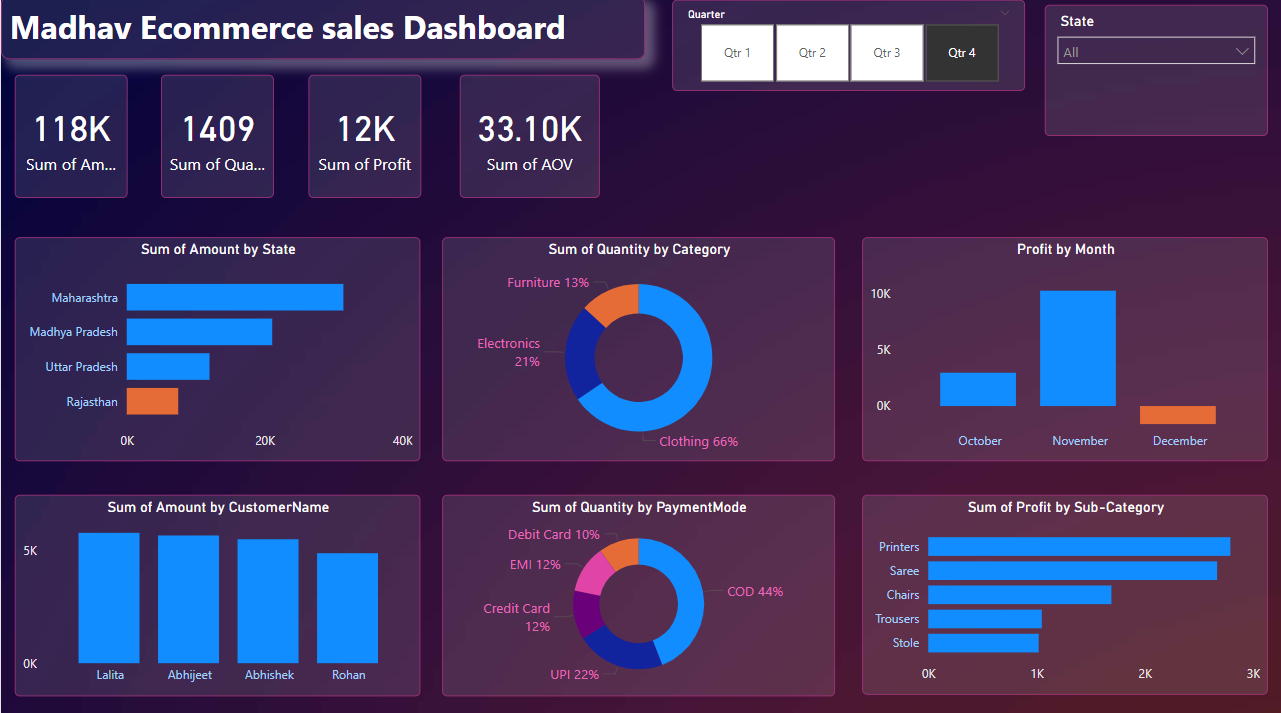

What the dashboard file says about the page in this screenshot:
{"tool":"powerbi","page":{"name":"Page 1","canvas":[1280,720],"ordinal":0},"visuals":[{"type":"textbox","box":[0,0,644.3,62.9],"z":0},{"type":"columnChart","title":"Profit by Month","fields":{"Category":["Orders.Order Date.Variation.Date Hierarchy.Month"],"Y":["Details.Profit"]},"box":[861.4,241.4,405.7,224.3],"z":1000},{"type":"barChart","fields":{"Category":["Details.Sub-Category"],"Y":["Details.Profit"]},"box":[861.4,498.6,405.7,200],"z":2000},{"type":"donutChart","fields":{"Category":["Details.Category"],"Y":["Details.Quantity"]},"box":[441.4,241.4,392.9,224.3],"z":3000},{"type":"donutChart","fields":{"Y":["Details.Quantity"],"Category":["Details.PaymentMode"]},"box":[441.4,498.6,392.9,201.4],"z":4000},{"type":"card","fields":{"Values":["Details.Amount"]},"box":[14.3,78.6,112.9,122.9],"z":5000},{"type":"card","fields":{"Values":["Details.AOV"]},"box":[458.6,78.6,140,122.9],"z":6000},{"type":"card","fields":{"Values":["Details.Quantity"]},"box":[160,78.6,112.9,122.9],"z":7000},{"type":"card","fields":{"Values":["Details.Profit"]},"box":[307.1,78.6,112.9,122.9],"z":8000},{"type":"barChart","fields":{"Category":["Orders.State"],"Y":["Details.Amount"]},"box":[14.3,241.4,405.7,224.3],"z":9000},{"type":"columnChart","fields":{"Category":["Orders.CustomerName"],"Y":["Details.Amount"]},"box":[14.3,498.6,405.7,201.4],"z":10000},{"type":"slicer","fields":{"Values":["Orders.Order Date.Variation.Date Hierarchy.Quarter"]},"box":[671.4,4.3,352.9,91.4],"z":11000},{"type":"slicer","fields":{"Values":["Orders.State"]},"box":[1044.3,8.6,222.9,131.4],"z":11001}]}

Visuals, with their boxes in screenshot pixels (x1, y1, x2, y2), scaled from the page's 1280x720 canvas onto the 1281x713 screenshot:
textbox: 0:0:645:62
"Profit by Month" columnChart: 862:239:1268:461
barChart - Details.Sub-Category x Details.Profit: 862:494:1268:692
donutChart - Details.Category x Details.Quantity: 442:239:835:461
donutChart - Details.Quantity x Details.PaymentMode: 442:494:835:693
card - Details.Amount: 14:78:127:200
card - Details.AOV: 459:78:599:200
card - Details.Quantity: 160:78:273:200
card - Details.Profit: 307:78:420:200
barChart - Orders.State x Details.Amount: 14:239:420:461
columnChart - Orders.CustomerName x Details.Amount: 14:494:420:693
slicer - Orders.Order Date.Variation.Date Hierarchy.Quarter: 672:4:1025:95
slicer - Orders.State: 1045:9:1268:139
